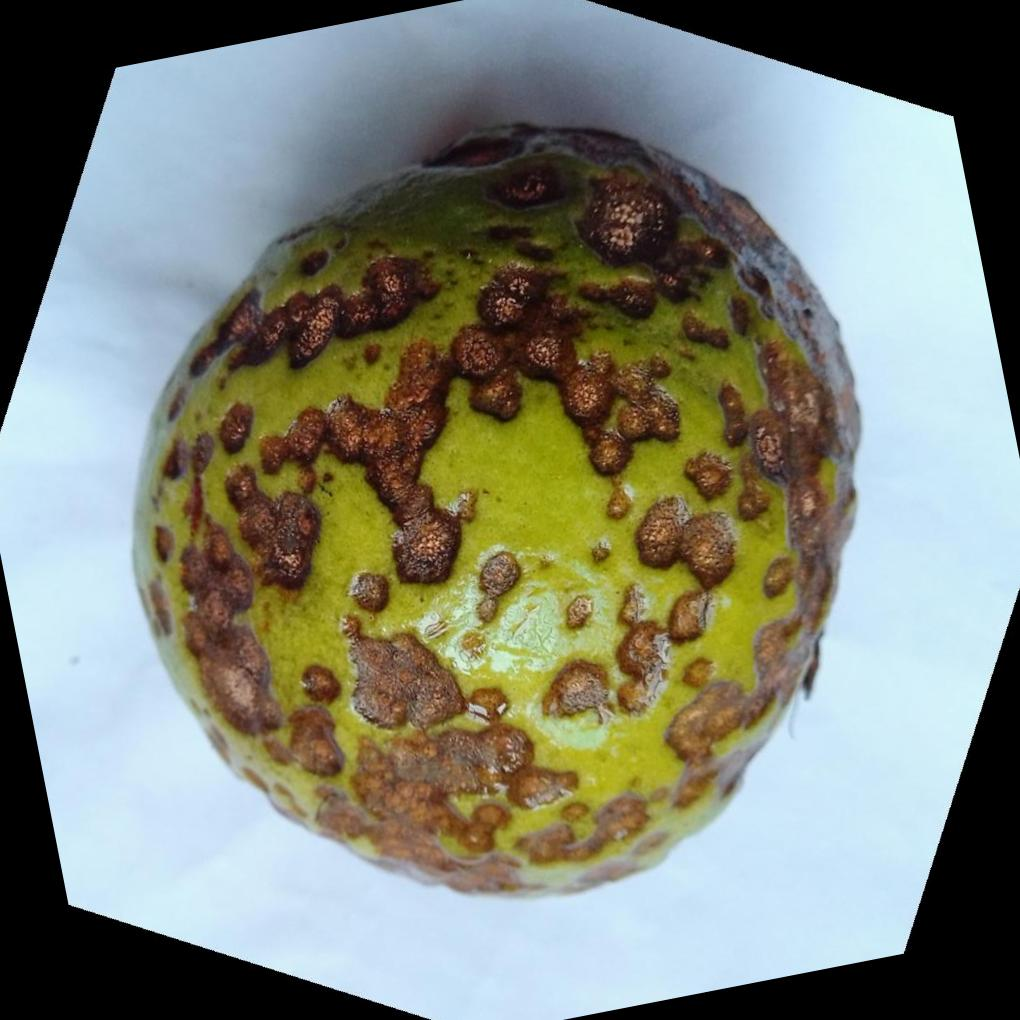FreshOrange: (126, 119, 860, 896)
